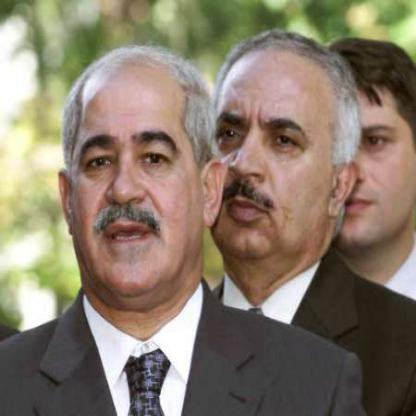face: (64, 51, 207, 302), (199, 38, 339, 273)
